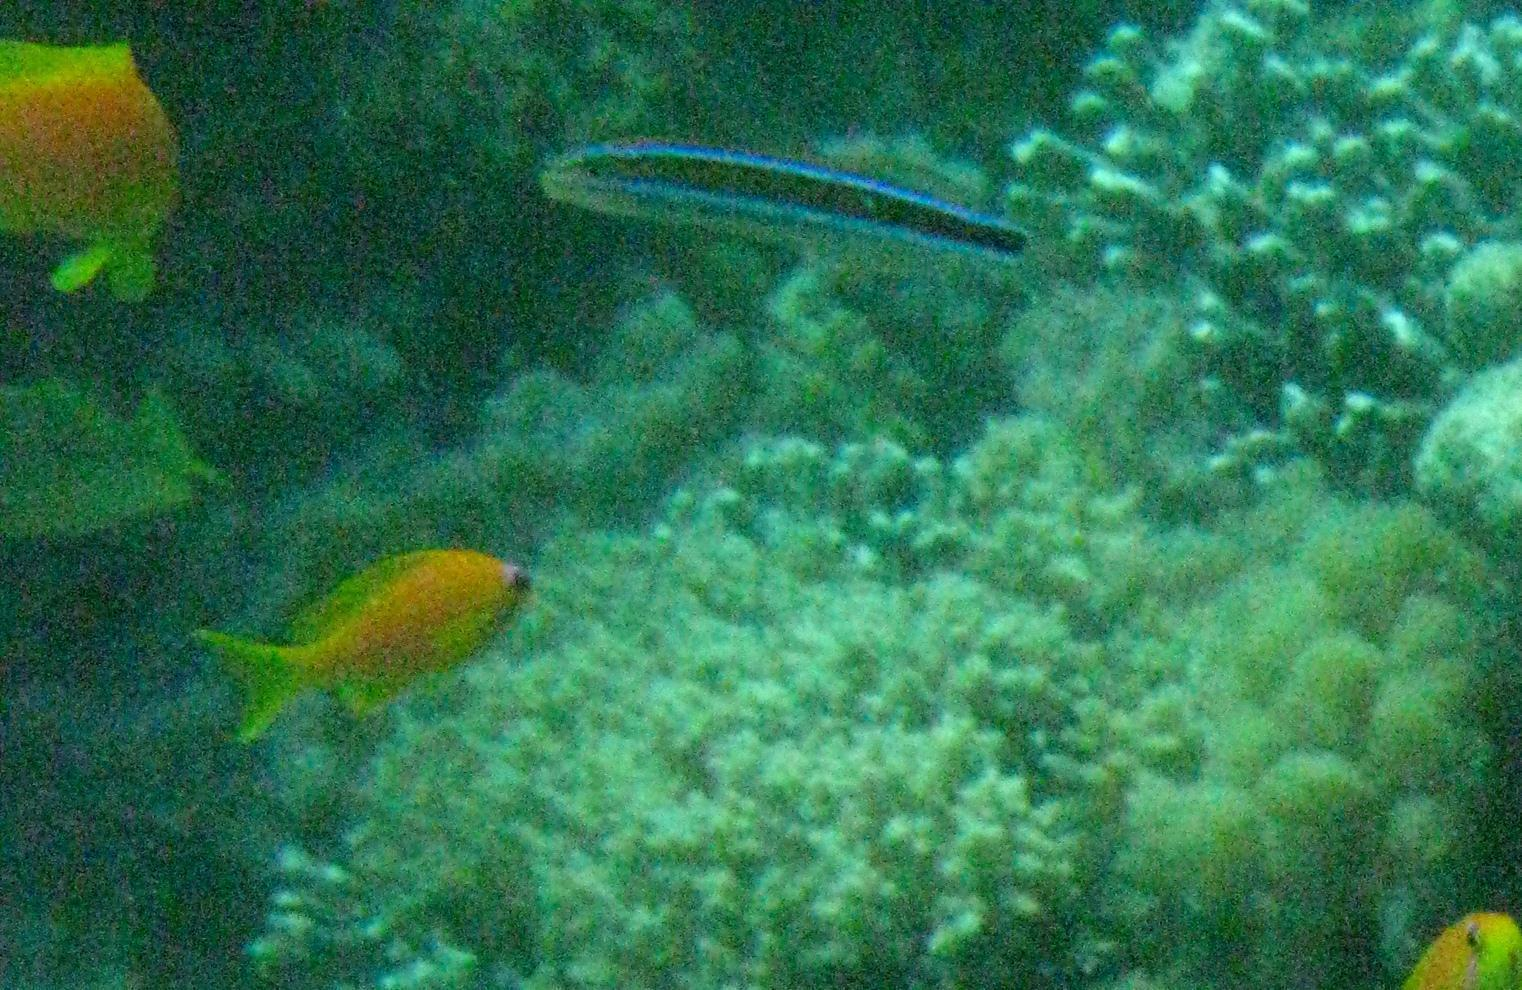Fish: (478, 104, 1097, 321)
